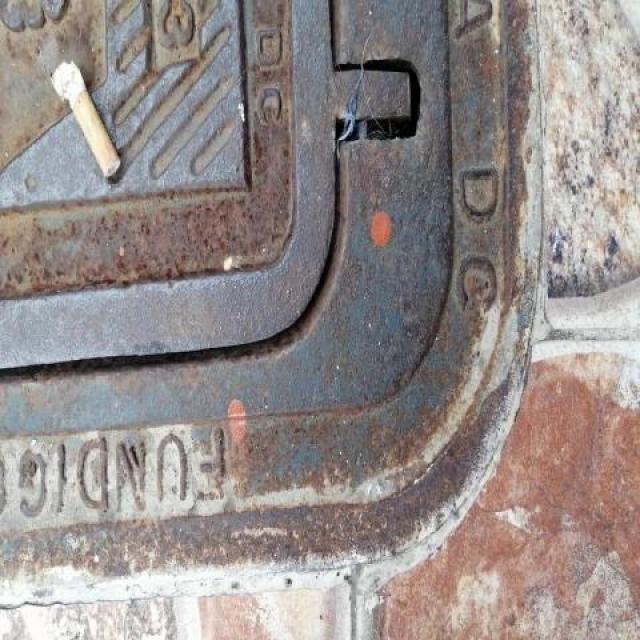non-organic waste: (47, 55, 124, 184)
